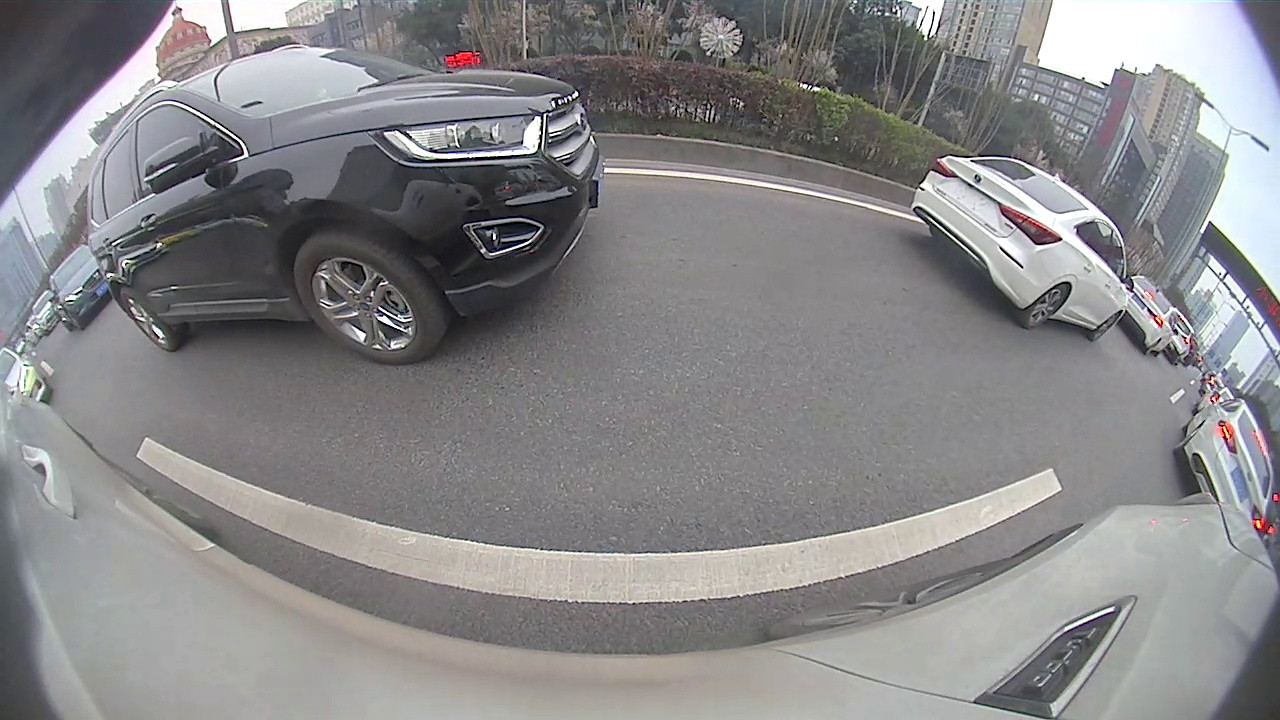car: (85, 42, 606, 367), (908, 152, 1138, 343), (1171, 395, 1277, 528), (49, 245, 113, 333)
front: (292, 233, 448, 368), (1092, 310, 1122, 343)
rear: (121, 289, 176, 352), (1024, 283, 1072, 330)
